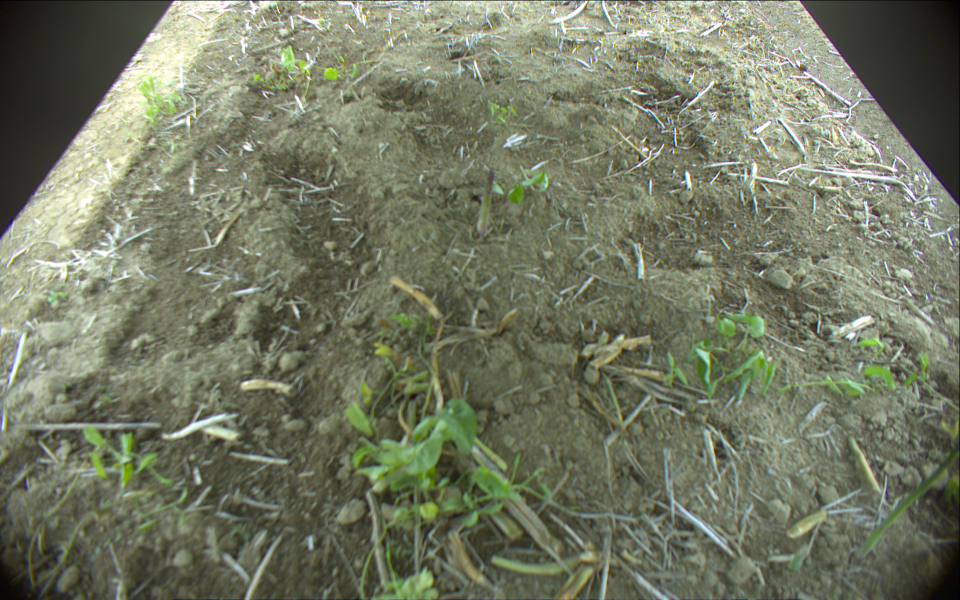aspa: (855, 430, 960, 559), (473, 168, 495, 234)
